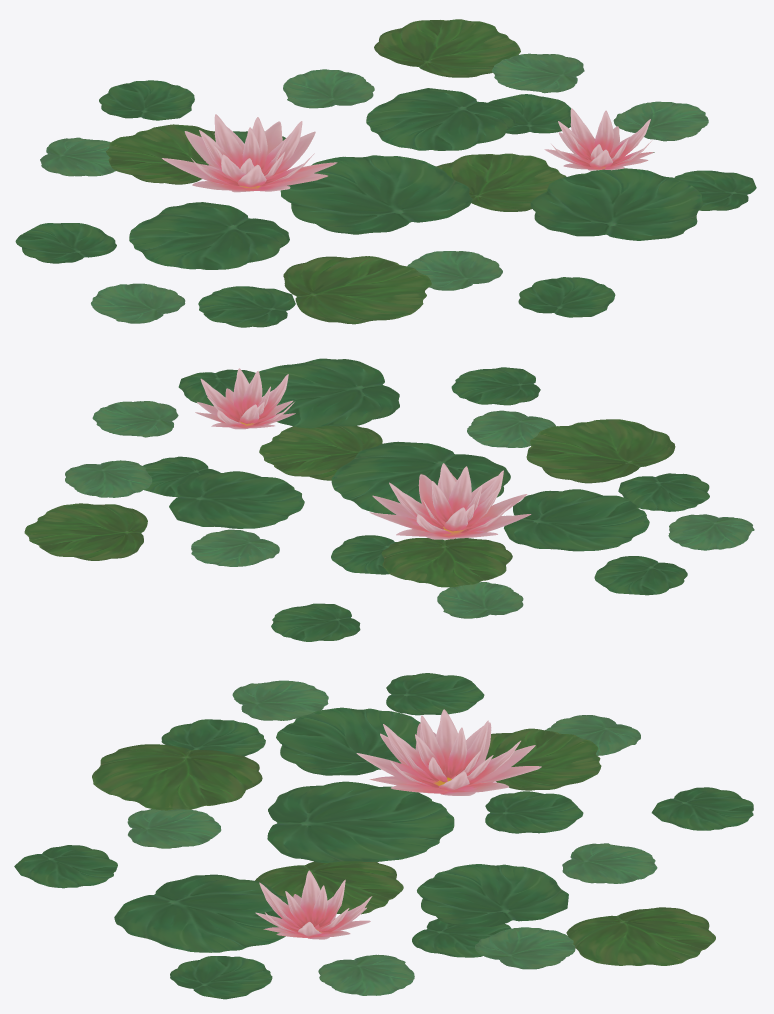
The model's file is SM_EastLands_WaterLily_02.fbx.
3 renders of one model, top to bottom at view 1: azimuth 30°, elevation 25°; view 2: azimuth 150°, elevation 25°; view 3: azimuth 270°, elevation 25°, orthographic. The views are drawn at different scales.
Parts seen in each view (by area): view 1: SM_EastLands_WaterLily_02_LOD0; view 2: SM_EastLands_WaterLily_02_LOD0; view 3: SM_EastLands_WaterLily_02_LOD0.
Boxes of the visible parts, x1,y1,x2,y2 form: SM_EastLands_WaterLily_02_LOD0: (15,19,756,327); SM_EastLands_WaterLily_02_LOD0: (24,358,754,641); SM_EastLands_WaterLily_02_LOD0: (14,673,753,999).
Bounding box in the file's own units: 170 × 15.69 × 161.
